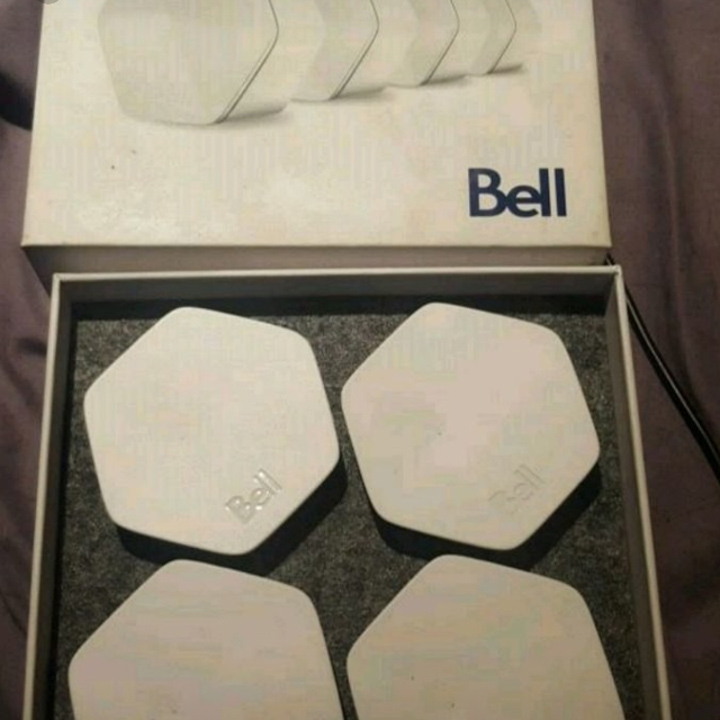pod: (341, 293, 609, 558), (81, 301, 346, 563)
